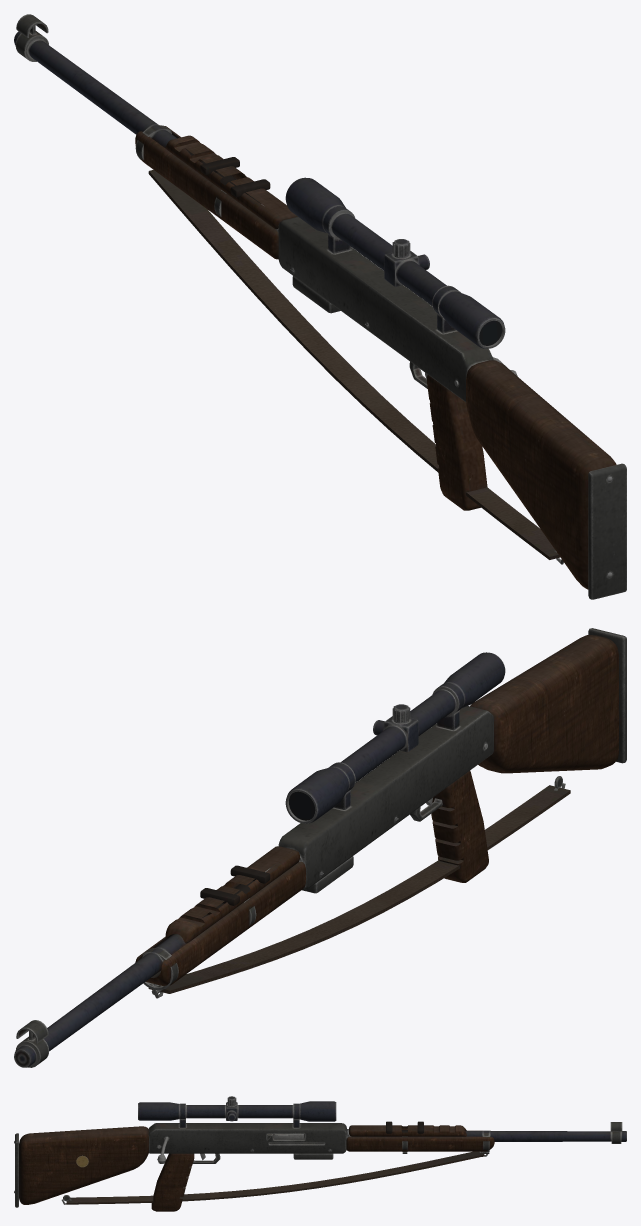
File: footman_precision_rifle.glb
3 views of the same model, one above another, from view 1: azimuth 30°, elevation 25°; view 2: azimuth 150°, elevation 25°; view 3: azimuth 270°, elevation 25° (orthographic). The views are drawn at different scales.
Parts seen in each view (by area): view 1: footman_precision_rifle; view 2: footman_precision_rifle; view 3: footman_precision_rifle.
Part boxes in pixels (x1,y1,x2,y2): footman_precision_rifle: (14,14,626,599); footman_precision_rifle: (14,628,626,1067); footman_precision_rifle: (14,1096,626,1211).
Size of the model in its own units: 0.0775 by 0.2325 by 1.16.
Materials: 1 (1 with a texture image).
